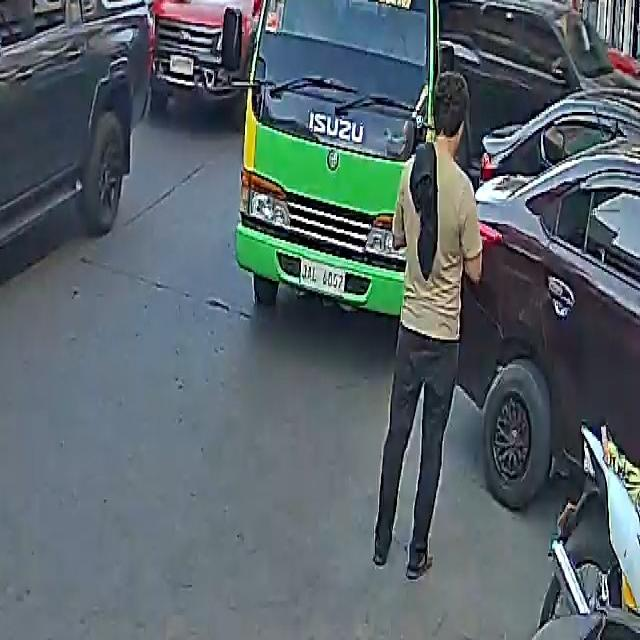car: (462, 114, 640, 522), (0, 0, 167, 357), (440, 0, 640, 167), (148, 0, 271, 103), (100, 0, 190, 9)
